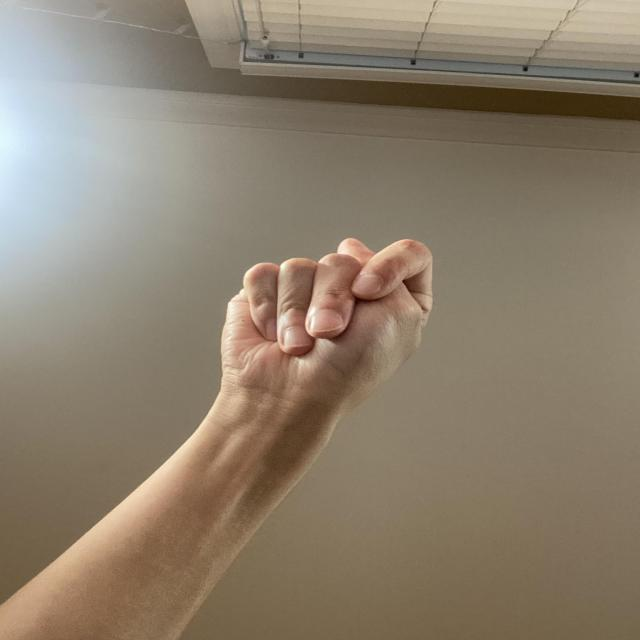T: (205, 232, 446, 429)
